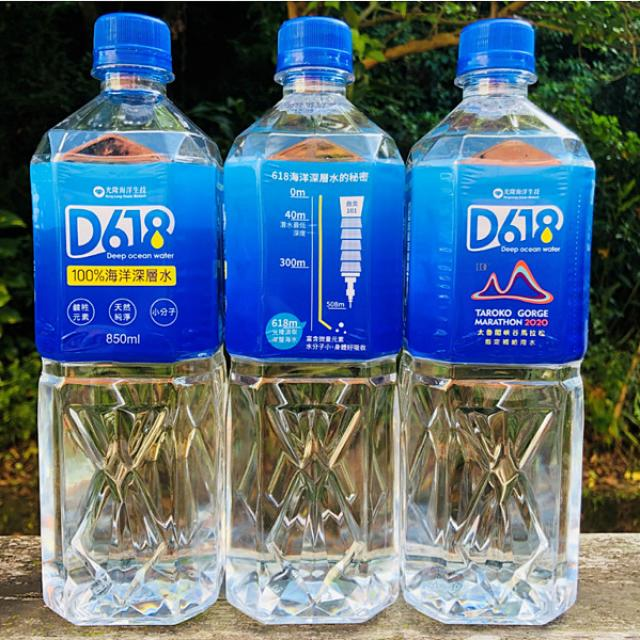plastic: (31, 15, 224, 628), (398, 19, 581, 625), (223, 20, 398, 625)
